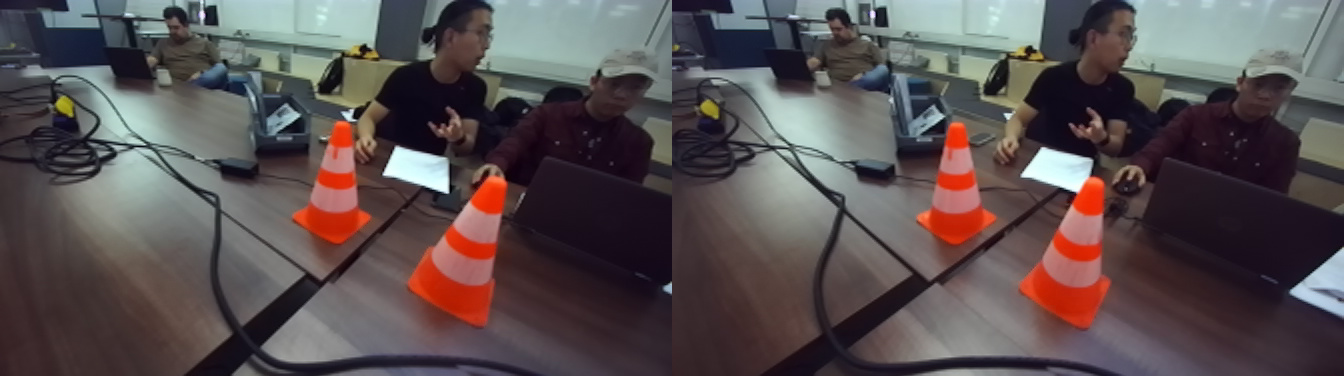cone: (1034, 171, 1134, 345), (436, 159, 521, 340), (922, 107, 1010, 270), (297, 99, 379, 265)
